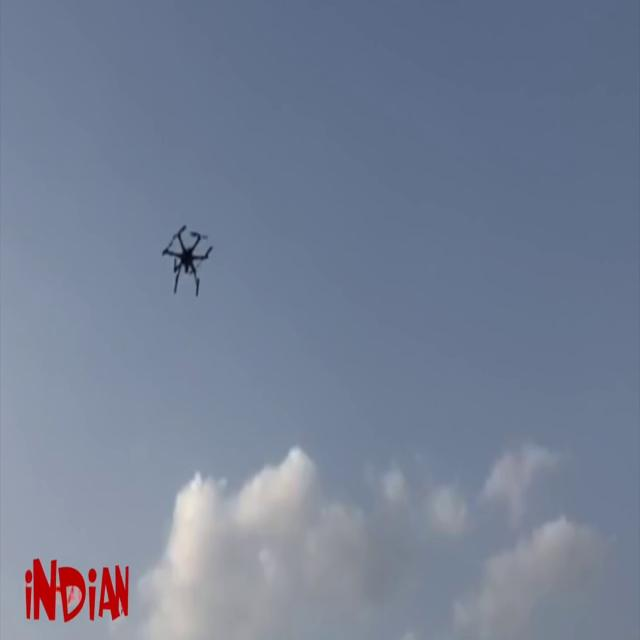drone: (156, 212, 220, 304)
